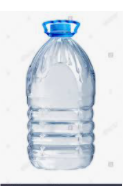Bottle: (26, 20, 95, 168)
